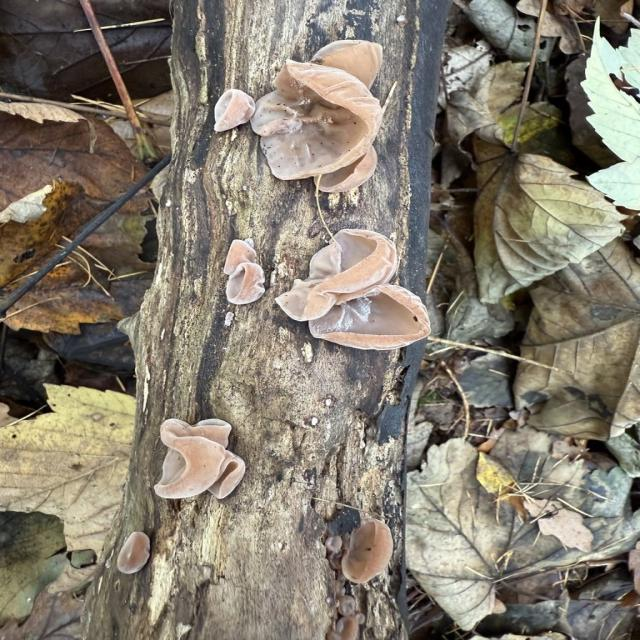Fase Muda: (250, 59, 388, 192), (270, 222, 412, 325), (306, 283, 440, 346), (156, 414, 234, 509), (309, 36, 396, 91), (311, 137, 388, 199), (219, 235, 270, 310), (339, 519, 396, 581), (112, 524, 163, 586), (206, 80, 254, 138), (201, 447, 254, 499)
